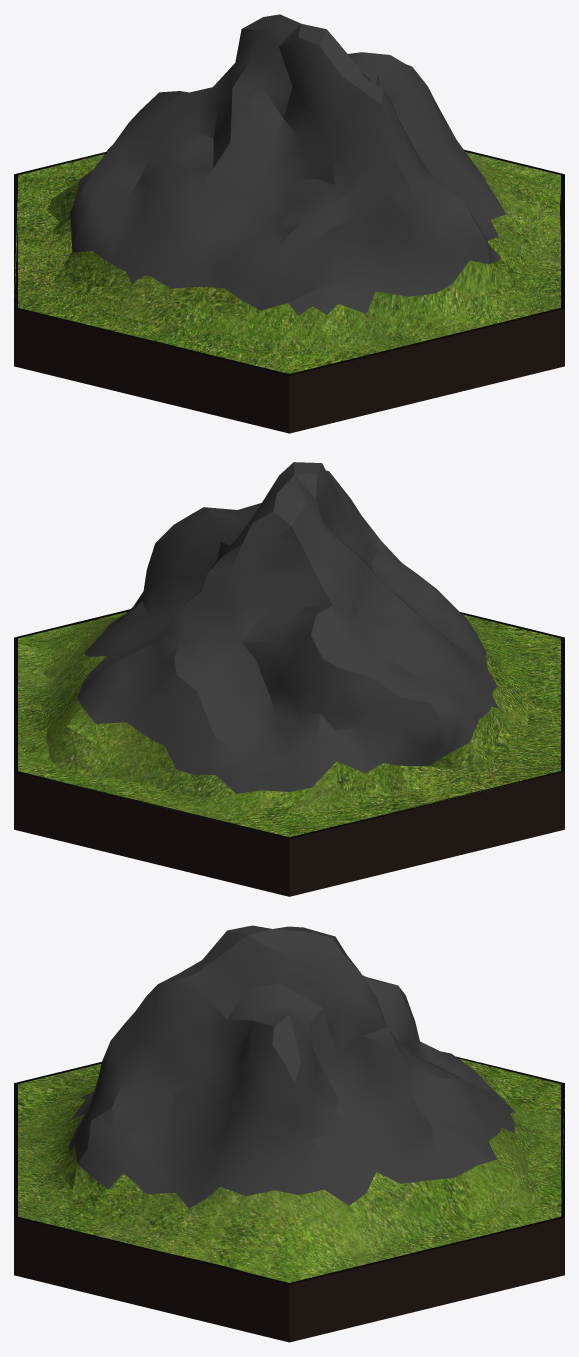
The model's file is MountainTile3.FBX.
3 views of the same model, one above another, from view 1: azimuth 30°, elevation 25°; view 2: azimuth 150°, elevation 25°; view 3: azimuth 270°, elevation 25° (orthographic).
Visible parts, largest first — view 1: MountainTile; view 2: MountainTile; view 3: MountainTile.
Part boxes in pixels (x1=…): MountainTile: x1=14, y1=14, x2=564, y2=433; MountainTile: x1=14, y1=462, x2=564, y2=896; MountainTile: x1=14, y1=925, x2=564, y2=1342.
Size of what is drawn, in the model's own units: 500 by 433 by 244.
Materials: 4 (1 with a texture image).
